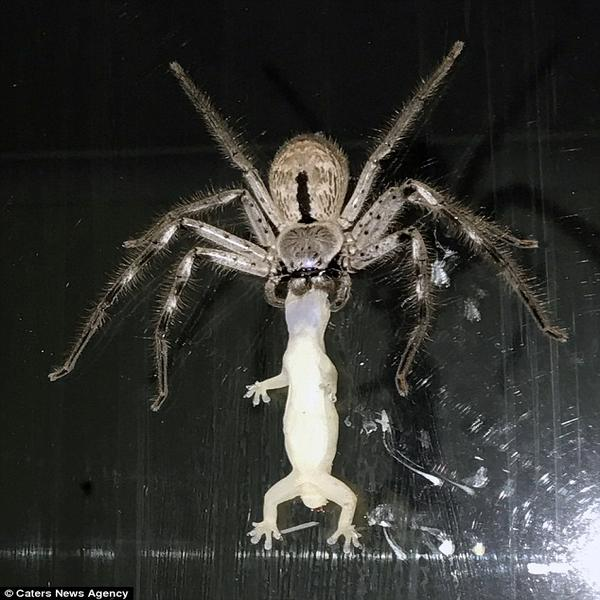Huntsman Spider: (52, 58, 567, 386)
